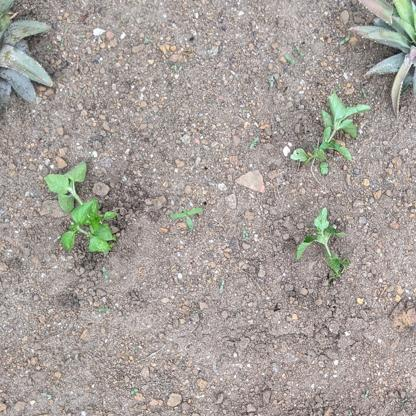pineapple: (347, 2, 416, 116), (1, 1, 58, 118)
weed: (289, 91, 371, 183), (44, 160, 120, 259), (294, 207, 347, 283)
